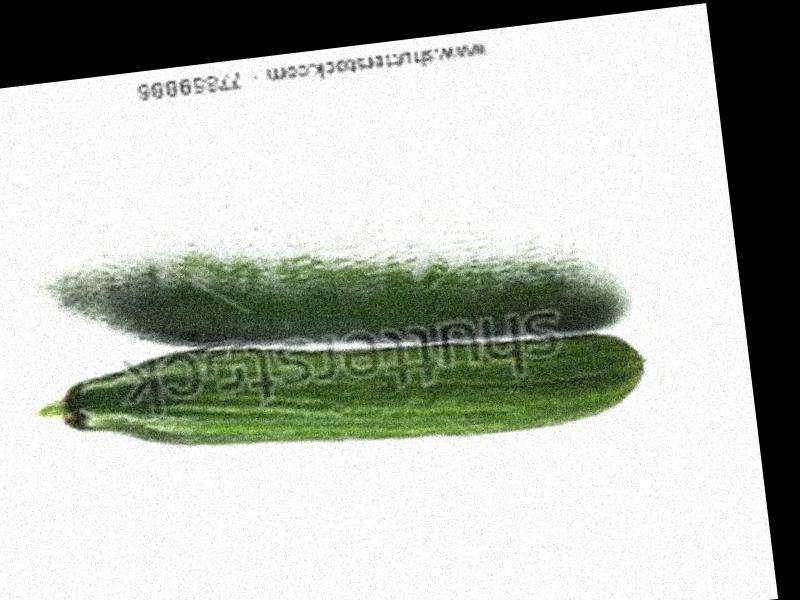Cucumber: (36, 296, 645, 489)
